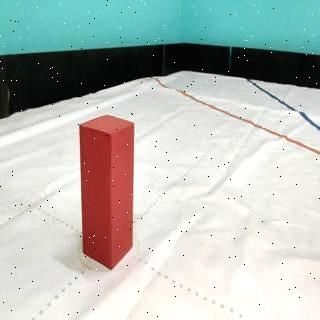redbox: (79, 114, 136, 270)
